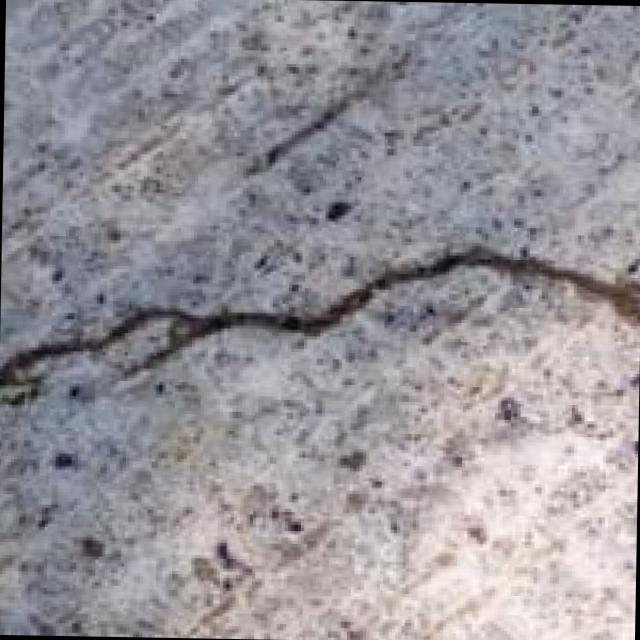crack: (0, 215, 639, 498)
